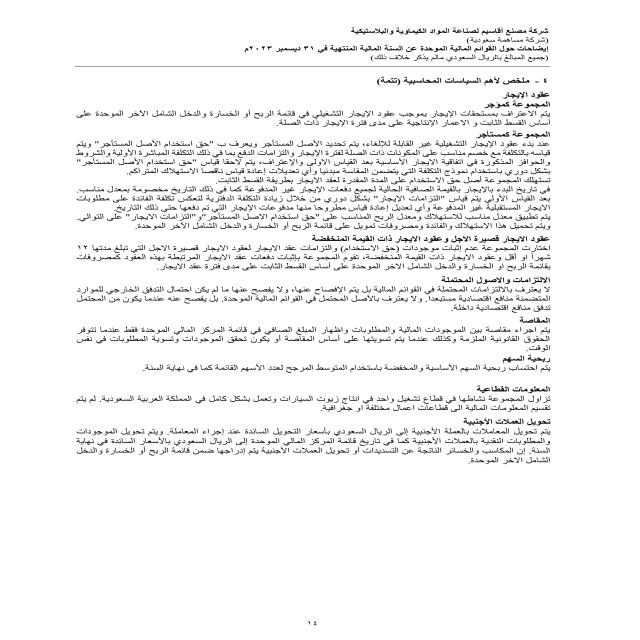notes: (416, 44, 555, 54)
text: (58, 75, 554, 488)
